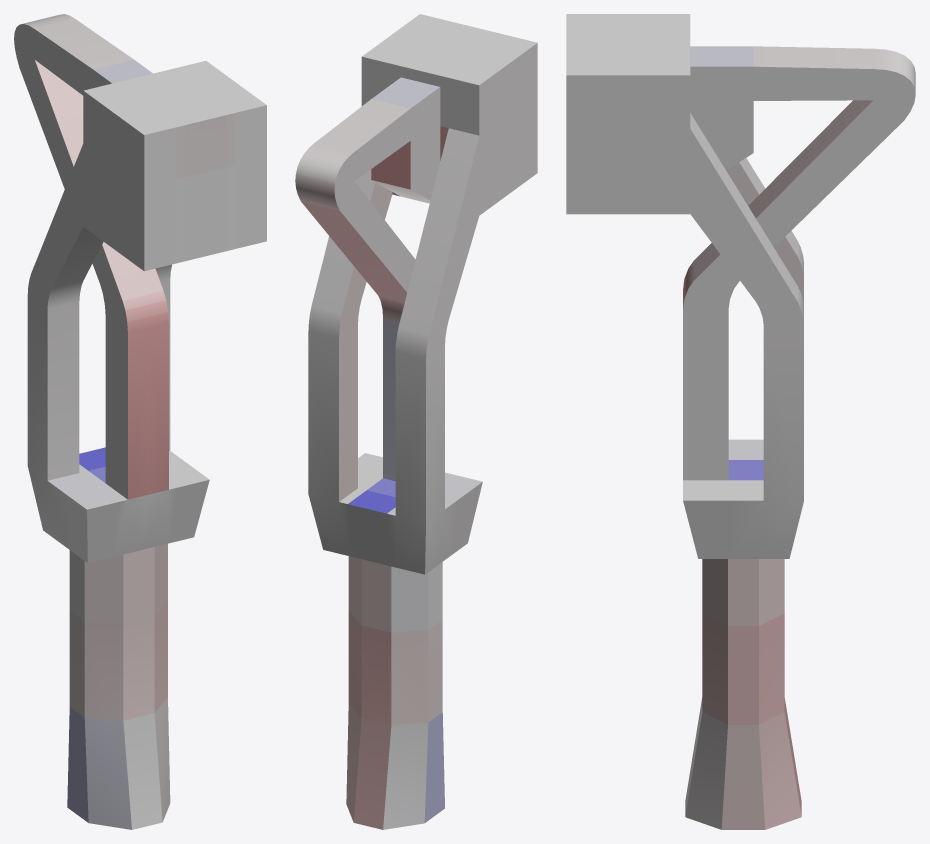
Rendered from hammer uv.fbx.
3 views of the same model, side by side, from view 1: azimuth 30°, elevation 25°; view 2: azimuth 150°, elevation 25°; view 3: azimuth 270°, elevation 25° (orthographic). The views are drawn at different scales.
Visible parts, largest first — view 1: geo1; view 2: geo1; view 3: geo1.
Boxes of the visible parts, x1,y1,x2,y2 form: geo1: [14, 14, 266, 829]; geo1: [295, 14, 537, 829]; geo1: [566, 14, 915, 829].
Size of the model in its own units: 539 by 3143 by 1302.
